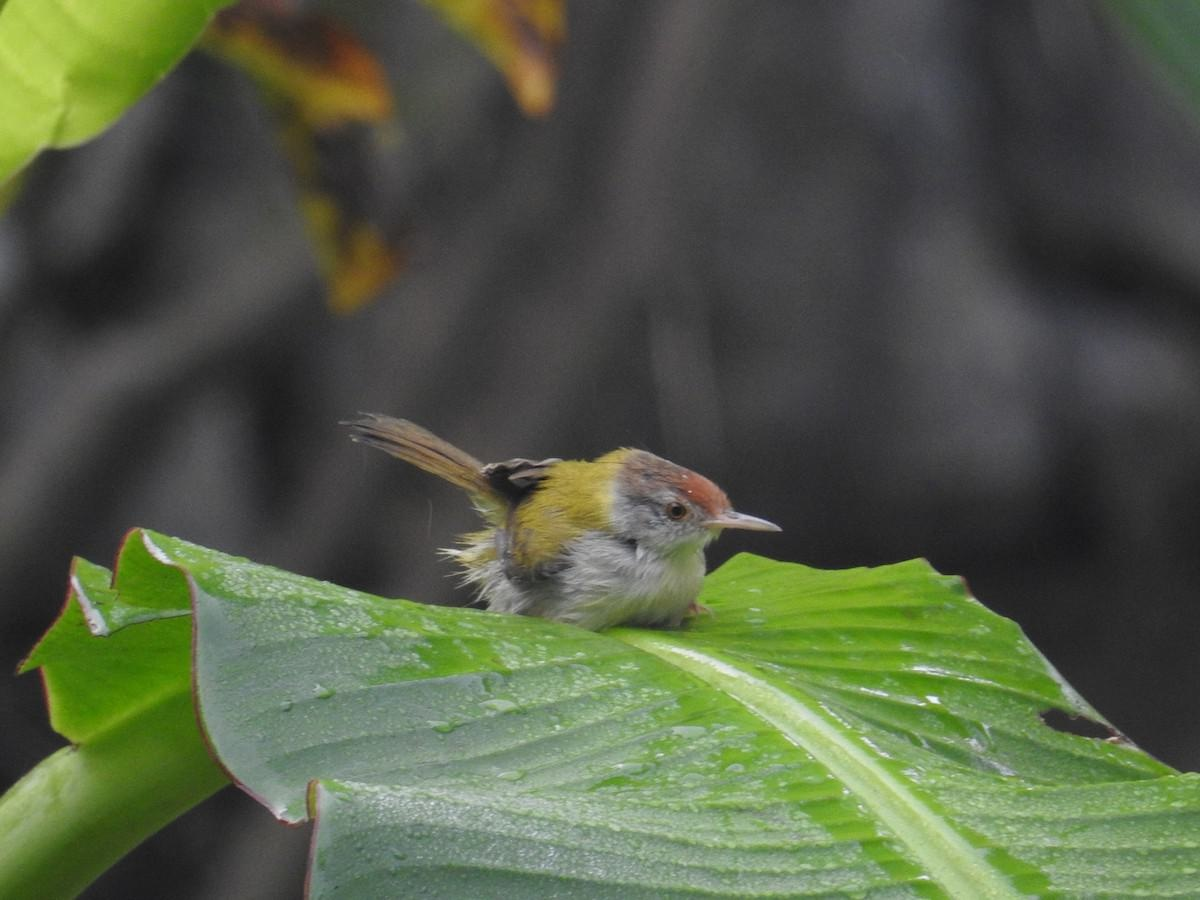tailorbird: (355, 352, 744, 653)
